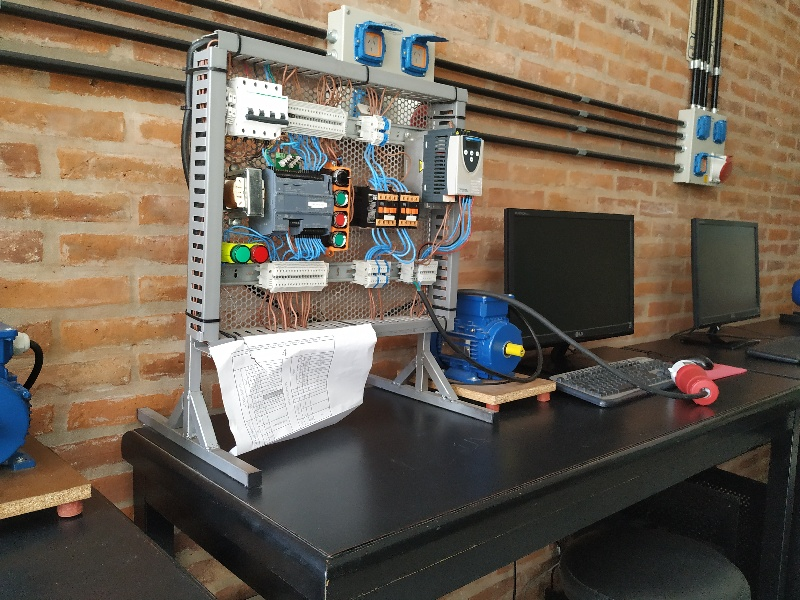Tablero 4: (215, 41, 486, 333)
